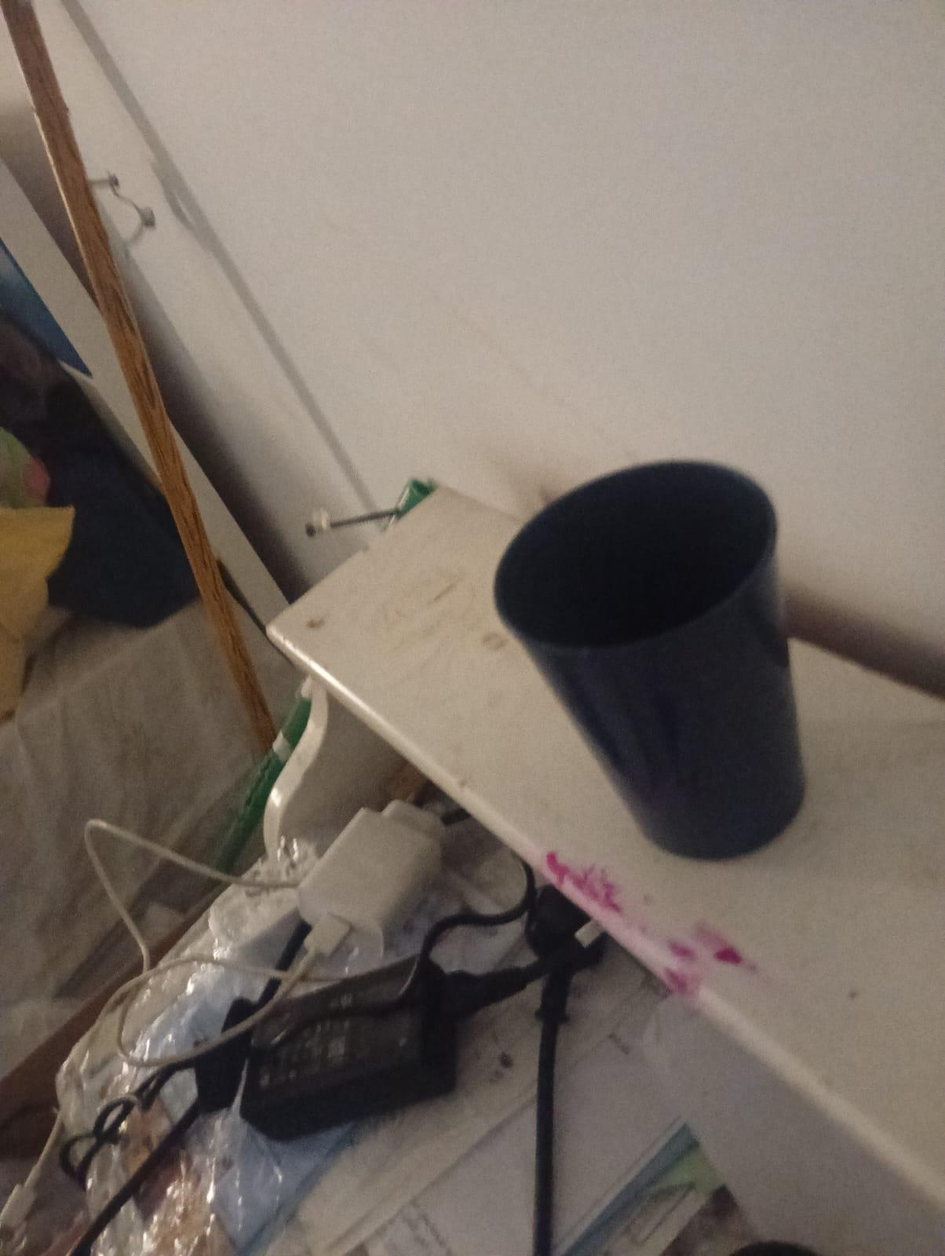cup: (494, 462, 803, 858)
